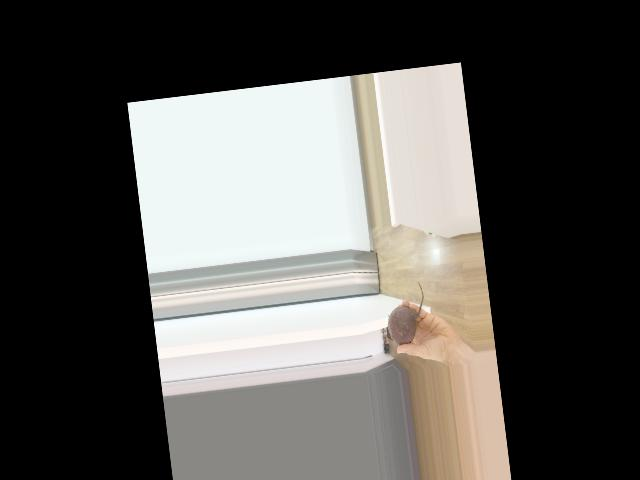beet: (381, 281, 429, 346)
